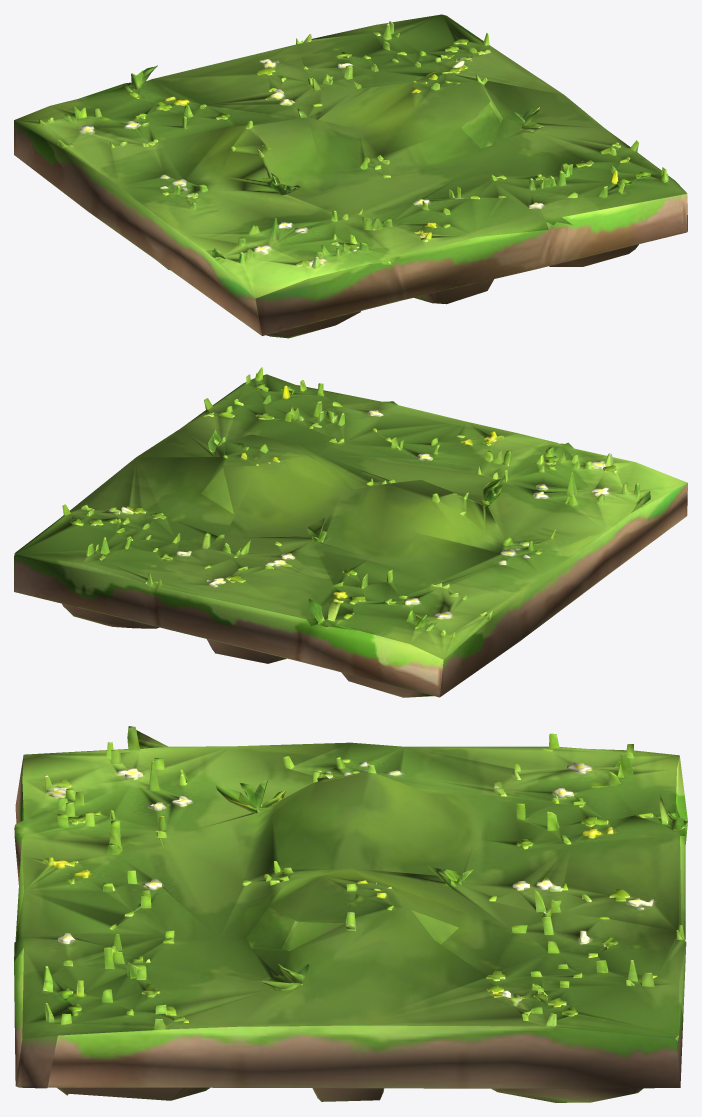
The model's file is grass-patch.glb.
3 views of the same model, one above another, from view 1: azimuth 30°, elevation 25°; view 2: azimuth 150°, elevation 25°; view 3: azimuth 270°, elevation 25° (orthographic). The views are drawn at different scales.
Visible parts, largest first — view 1: Mesh1.0; view 2: Mesh1.0; view 3: Mesh1.0.
Boxes of the visible parts, box(x1,y1,x2,y2) form: Mesh1.0: box(14, 14, 687, 338); Mesh1.0: box(14, 367, 687, 697); Mesh1.0: box(14, 726, 687, 1102).
Bounding box in the file's own units: 1.89 × 0.4792 × 1.88.
Materials: 1 (1 with a texture image).
